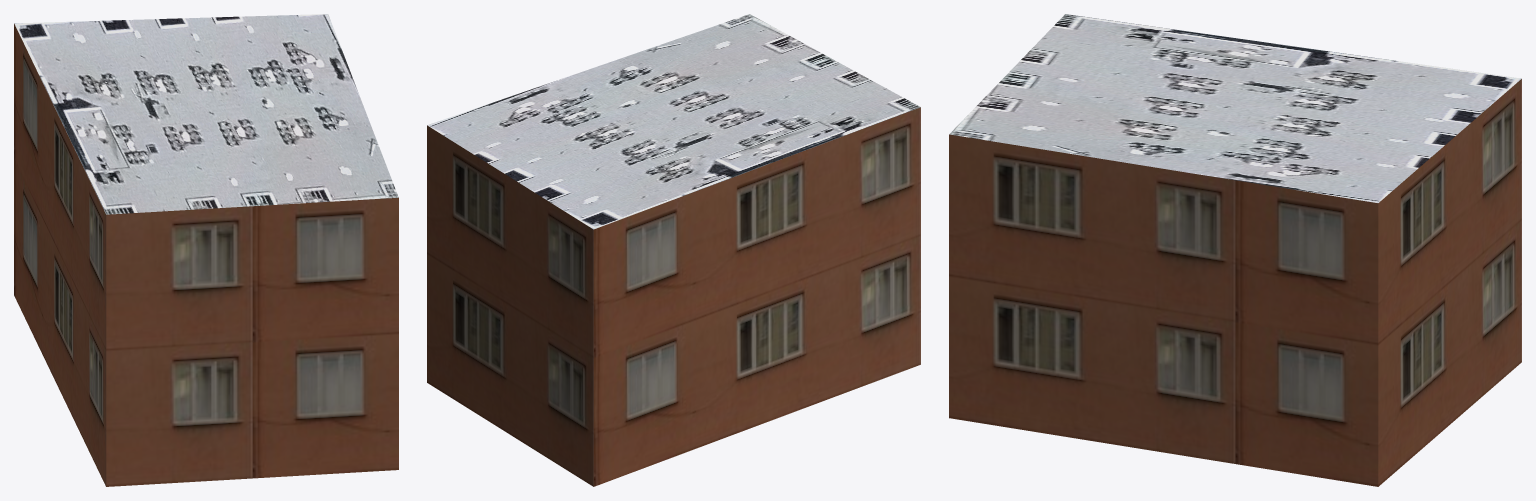
Rendered from ResTex__2259.fbx.
The picture shows the model from 3 angles, left to right: view 1: azimuth 30°, elevation 25°; view 2: azimuth 150°, elevation 25°; view 3: azimuth 270°, elevation 25°; orthographic projection. The views are drawn at different scales.
Visible parts, largest first — view 1: CityEngineMaterial_20_m, CityEngineMaterial_8_m; view 2: CityEngineMaterial_20_m, CityEngineMaterial_8_m; view 3: CityEngineMaterial_20_m, CityEngineMaterial_8_m.
Boxes of the visible parts, <box> form: CityEngineMaterial_20_m: <box>14,23,398,486</box>; CityEngineMaterial_8_m: <box>14,14,398,214</box>; CityEngineMaterial_20_m: <box>427,107,920,486</box>; CityEngineMaterial_8_m: <box>427,14,920,229</box>; CityEngineMaterial_20_m: <box>949,79,1521,486</box>; CityEngineMaterial_8_m: <box>949,14,1521,202</box>.
Size of the model in its own units: 8.59 by 6 by 10.98.
Materials: 2 (2 with a texture image).
